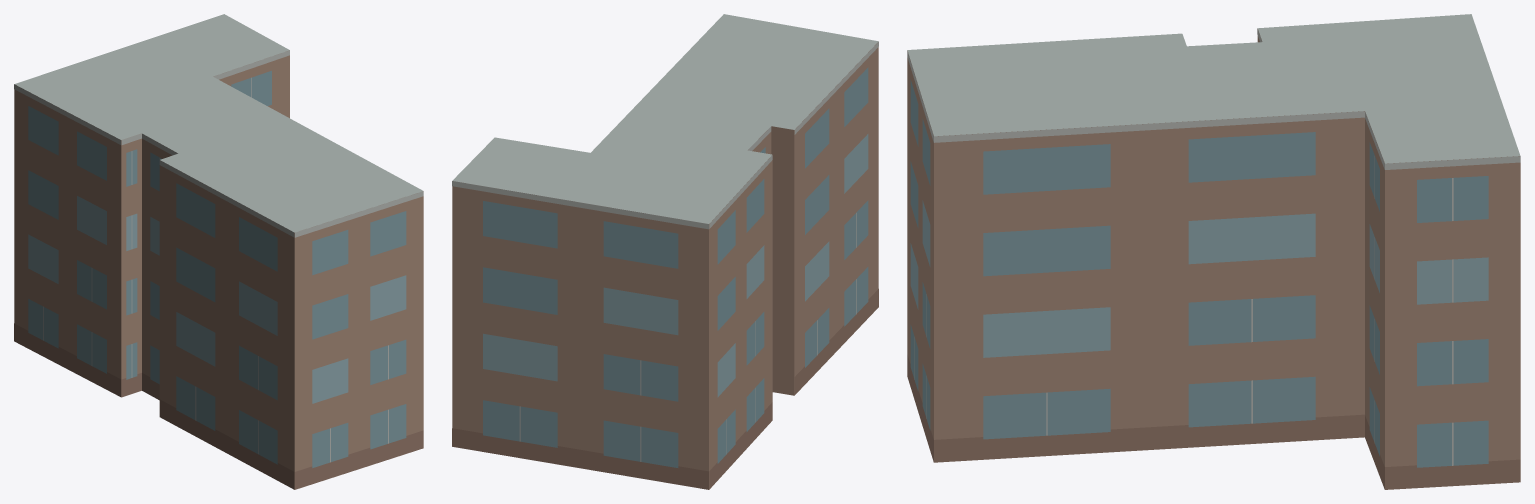
File: survey-upis-32729296.glb
3 views of the same model, side by side, from view 1: azimuth 30°, elevation 25°; view 2: azimuth 150°, elevation 25°; view 3: azimuth 270°, elevation 25° (orthographic). The views are drawn at different scales.
Parts seen in each view (by area): view 1: survey-upis-32729296.tmp; view 2: survey-upis-32729296.tmp; view 3: survey-upis-32729296.tmp.
Boxes of the visible parts, left/top/right/bottom form: survey-upis-32729296.tmp: left=14, top=14, right=423, bottom=489; survey-upis-32729296.tmp: left=452, top=14, right=878, bottom=489; survey-upis-32729296.tmp: left=907, top=14, right=1520, bottom=489.
Size of the model in its own units: 12 by 12.2 by 20.79.
